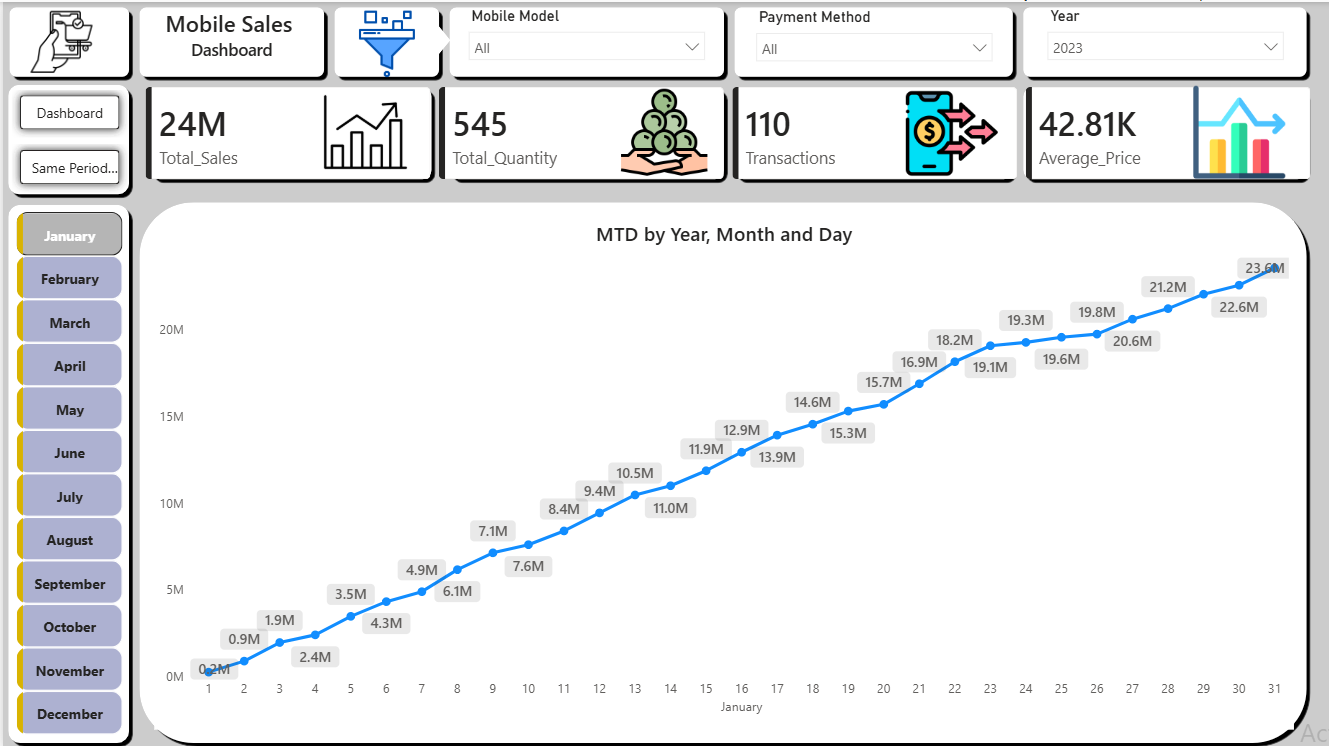

This screenshot's page, from the dashboard's own definition file:
{"tool":"powerbi","page":{"name":"MTD","canvas":[1280,720],"ordinal":1},"visuals":[{"type":"shape","box":[1.2,0,125.5,77.2],"z":0},{"type":"shape","box":[0,74.8,126.7,115.8],"z":1000},{"type":"shape","box":[314.9,0,111,77.2],"z":2000},{"type":"image","box":[19.3,8.4,74.8,60.3],"z":3000},{"type":"shape","title":"Mo","box":[126.7,0,188.2,77.2],"z":4000},{"type":"image","box":[322.1,7.2,96.5,66.4],"z":5000},{"type":"shape","box":[425.9,0,275.1,77.2],"z":6000},{"type":"slicer","fields":{"Values":["Sales_Data.Mobile Model"]},"box":[439.1,0,248.5,74.8],"z":7000},{"type":"shape","box":[700.9,0,278.7,77.2],"z":8000},{"type":"slicer","fields":{"Values":["Sales_Data.Payment Method"]},"box":[716.6,1.2,248.5,74.8],"z":9000},{"type":"shape","box":[979.6,0,283.5,77.2],"z":10000},{"type":"slicer","fields":{"Values":["Custom Calander.Date.Variation.Date Hierarchy.Year"]},"box":[997.7,0,248.5,74.8],"z":11000},{"type":"shape","box":[0,190.6,126.7,529.6],"z":12000},{"type":"shape","box":[137.5,77.2,281.1,98.9],"z":13000},{"type":"shape","box":[425.9,77.2,275.1,98.9],"z":14000},{"type":"shape","box":[700.9,77.2,278.7,98.9],"z":15000},{"type":"shape","box":[979.6,77.2,283.5,98.9],"z":16000},{"type":"cardVisual","fields":{"Data":["Sales_Data.Total_Sales","Sales_Data.Total_Quantity","Sales_Data.Transactions","Sales_Data.Average_Price"]},"box":[120.6,65.1,1159.4,123.1],"z":17000},{"type":"shape","box":[405.4,20.5,26.5,32.6],"z":18000},{"type":"textbox","box":[126.7,1.2,188.2,72.4],"z":19000},{"type":"shape","box":[126.7,188.2,1136.5,532],"z":20000},{"type":"lineChart","title":"MTD by Year, Month and Day","fields":{"Y":["Sales_Data.MTD"],"Category":["Custom Calander.Date.Variation.Date Hierarchy.Month","Custom Calander.Date.Variation.Date Hierarchy.Day"]},"box":[146,211.1,1100.3,491],"z":21000},{"type":"image","box":[284.7,74.8,130.3,101.3],"z":22000},{"type":"image","box":[573.1,80.8,130.3,89.3],"z":23000},{"type":"image","box":[850.5,82,130.3,89.3],"z":24000},{"type":"image","box":[1128,80.8,130.3,89.3],"z":25000},{"type":"advancedSlicerVisual","fields":{"Values":["Custom Calander.Date.Variation.Date Hierarchy.Month"]},"box":[8.4,197.6,112.2,522.4],"z":26000},{"type":"pageNavigator","box":[8.1,81.9,112.8,102.1],"z":27000}]}

Visuals, with their boxes in screenshot pixels (x1, y1, x2, y2), scaled from the page's 1280x720 canvas onto the 1329x746 screenshot:
shape: [left=1, top=0, right=132, bottom=80]
shape: [left=0, top=78, right=132, bottom=197]
shape: [left=327, top=0, right=442, bottom=80]
image: [left=20, top=9, right=98, bottom=71]
"Mo" shape: [left=132, top=0, right=327, bottom=80]
image: [left=334, top=7, right=435, bottom=76]
shape: [left=442, top=0, right=728, bottom=80]
slicer - Sales_Data.Mobile Model: [left=456, top=0, right=714, bottom=78]
shape: [left=728, top=0, right=1017, bottom=80]
slicer - Sales_Data.Payment Method: [left=744, top=1, right=1002, bottom=79]
shape: [left=1017, top=0, right=1311, bottom=80]
slicer - Custom Calander.Date.Variation.Date Hierarchy.Year: [left=1036, top=0, right=1294, bottom=78]
shape: [left=0, top=197, right=132, bottom=745]
shape: [left=143, top=80, right=435, bottom=182]
shape: [left=442, top=80, right=728, bottom=182]
shape: [left=728, top=80, right=1017, bottom=182]
shape: [left=1017, top=80, right=1311, bottom=182]
cardVisual - Sales_Data.Total_Sales x Sales_Data.Total_Quantity: [left=125, top=67, right=1328, bottom=195]
shape: [left=421, top=21, right=448, bottom=55]
textbox: [left=132, top=1, right=327, bottom=76]
shape: [left=132, top=195, right=1312, bottom=745]
"MTD by Year, Month and Day" lineChart: [left=152, top=219, right=1294, bottom=727]
image: [left=296, top=78, right=431, bottom=182]
image: [left=595, top=84, right=730, bottom=176]
image: [left=883, top=85, right=1018, bottom=177]
image: [left=1171, top=84, right=1306, bottom=176]
advancedSlicerVisual - Custom Calander.Date.Variation.Date Hierarchy.Month: [left=9, top=205, right=125, bottom=745]
pageNavigator: [left=8, top=85, right=126, bottom=191]
